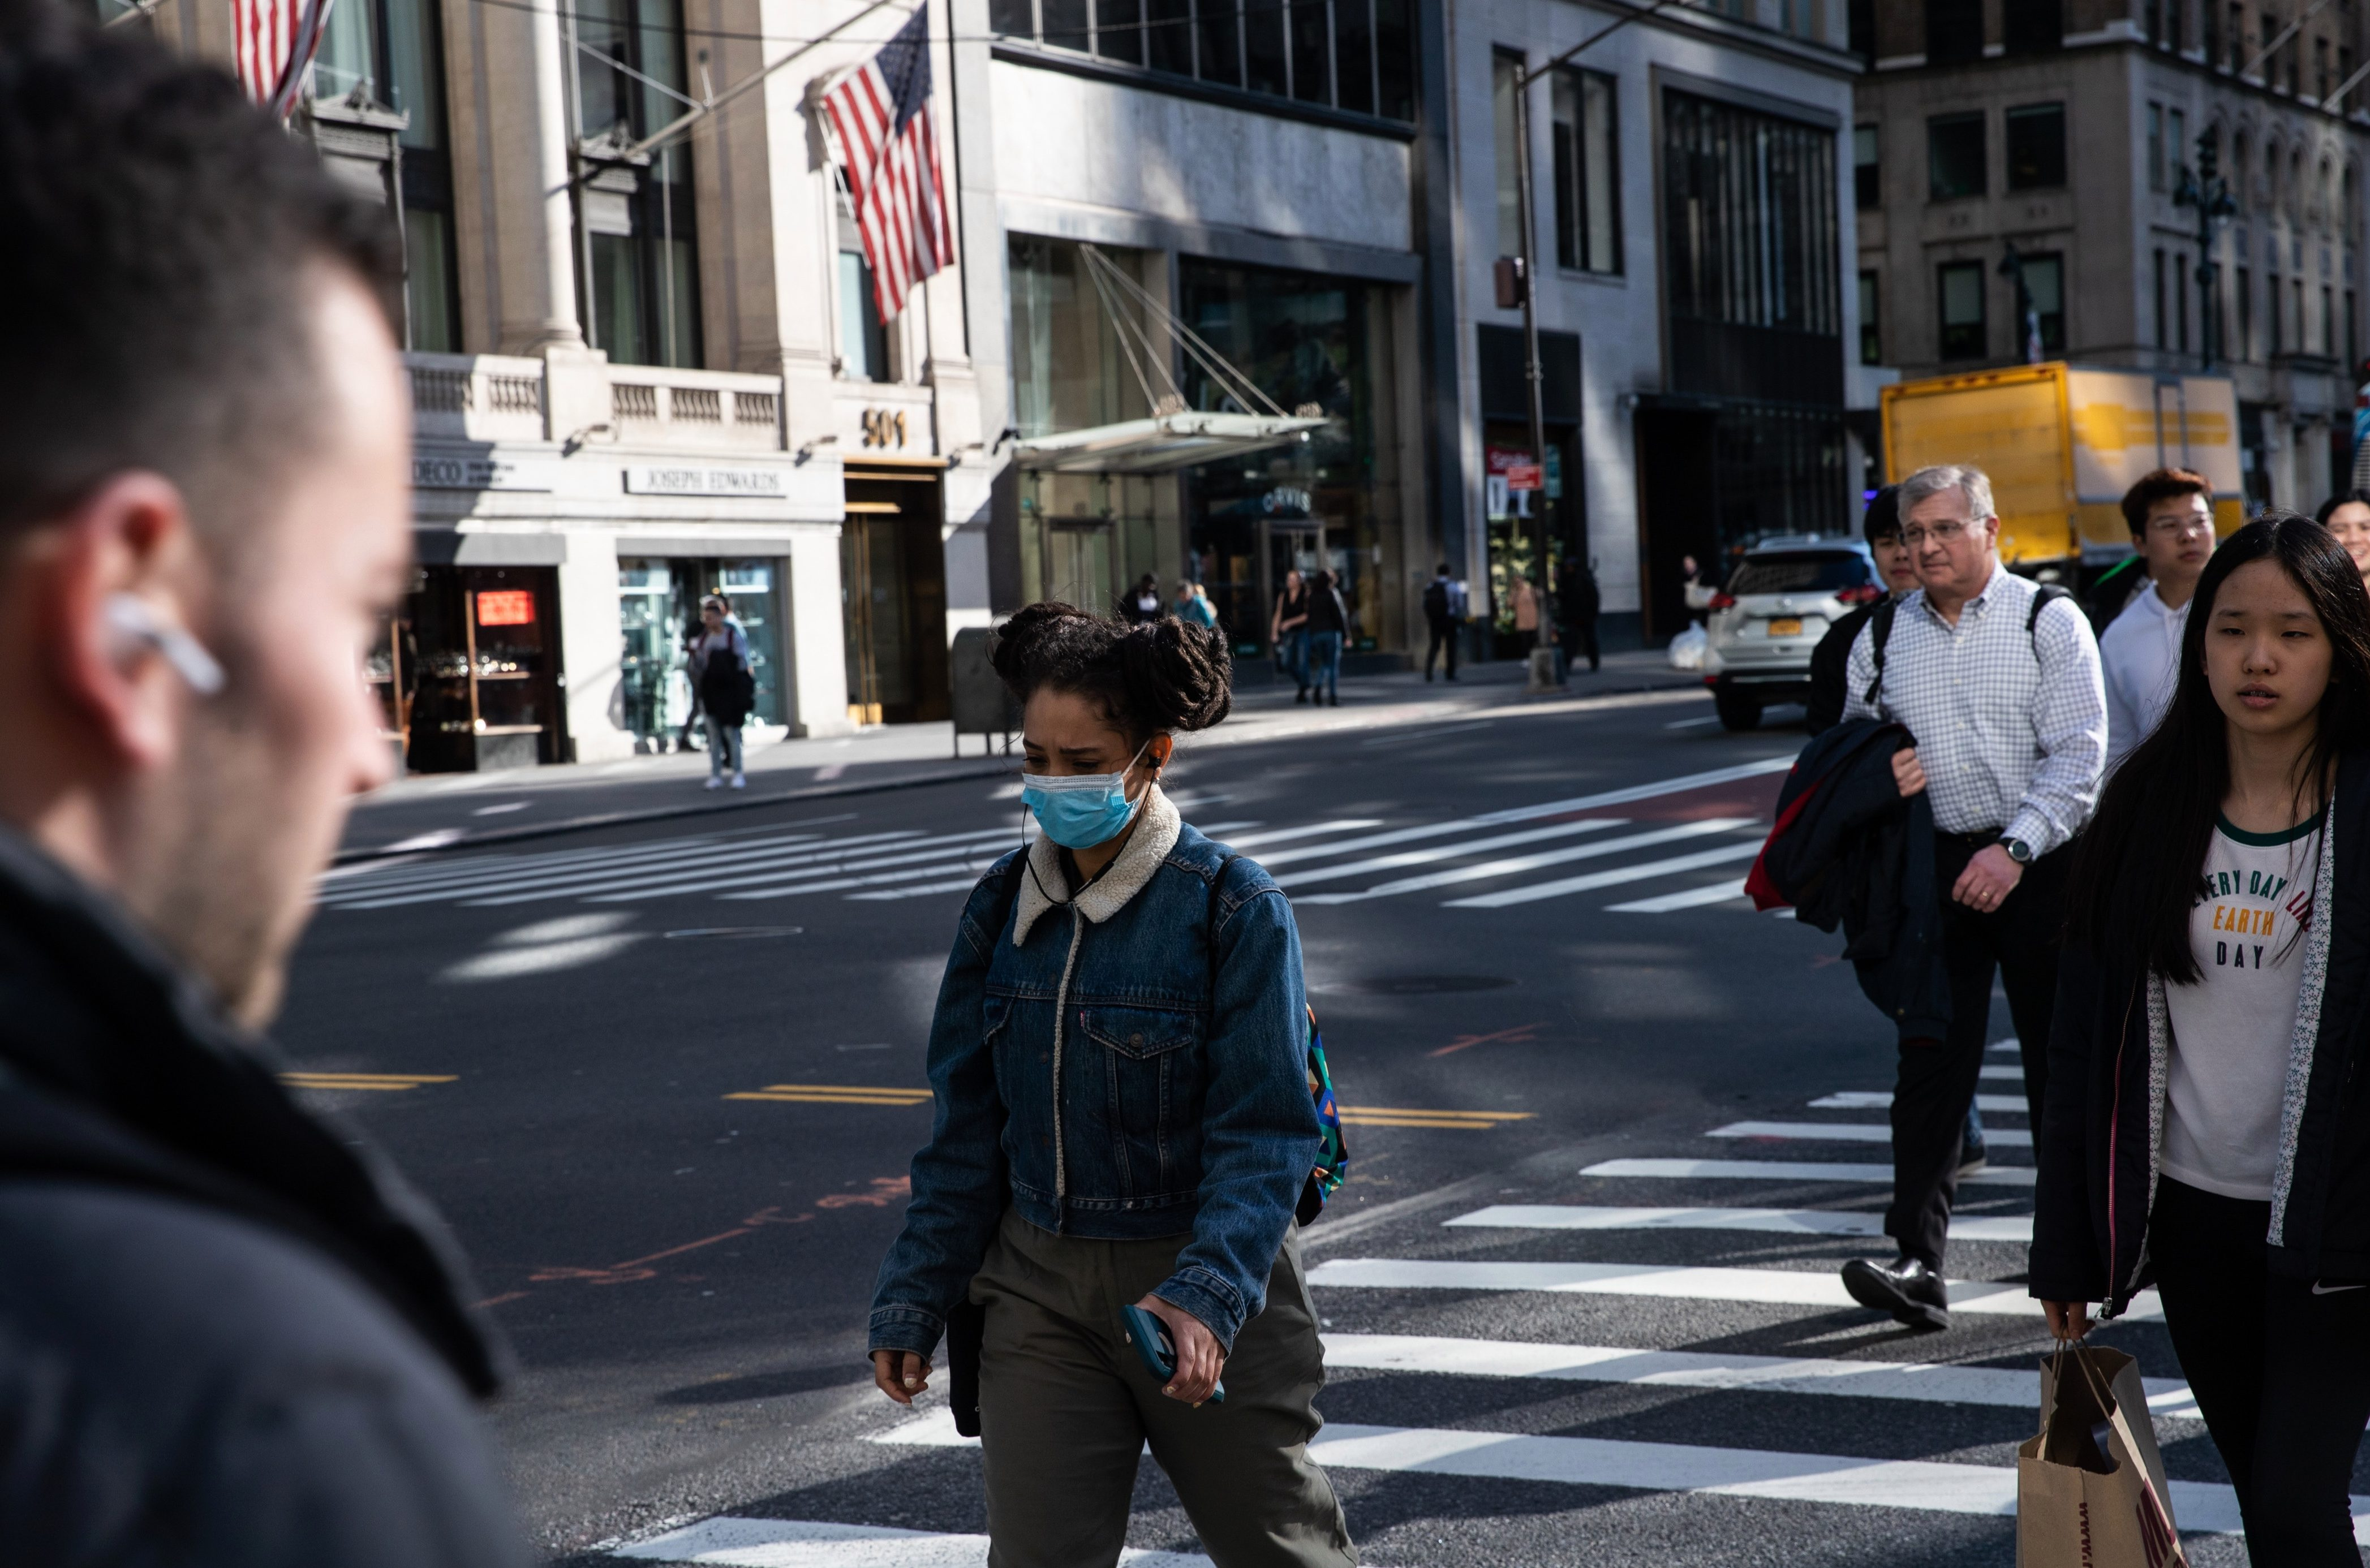person: (1, 1, 564, 1568), (863, 586, 1410, 1563), (2002, 527, 2370, 1568), (1782, 446, 2121, 1342), (2117, 465, 2249, 667), (681, 578, 759, 790)
